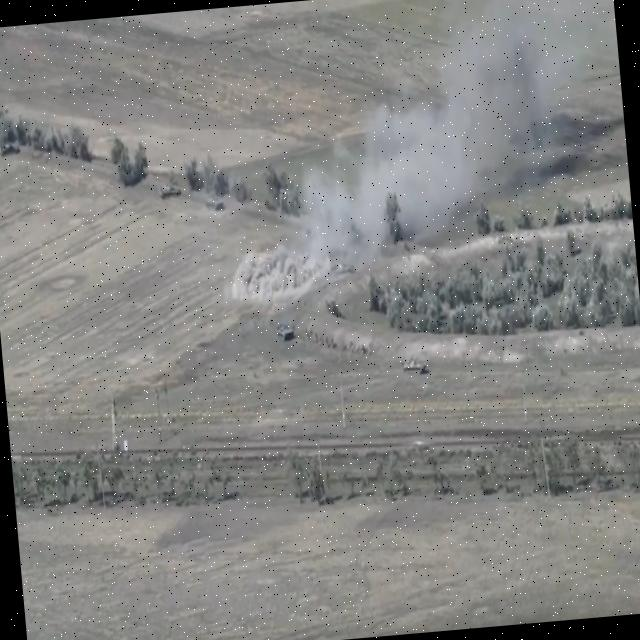AIFV: (399, 356, 431, 382), (272, 318, 298, 346), (156, 179, 184, 201), (330, 260, 357, 280), (204, 192, 227, 214), (1, 137, 23, 159)
